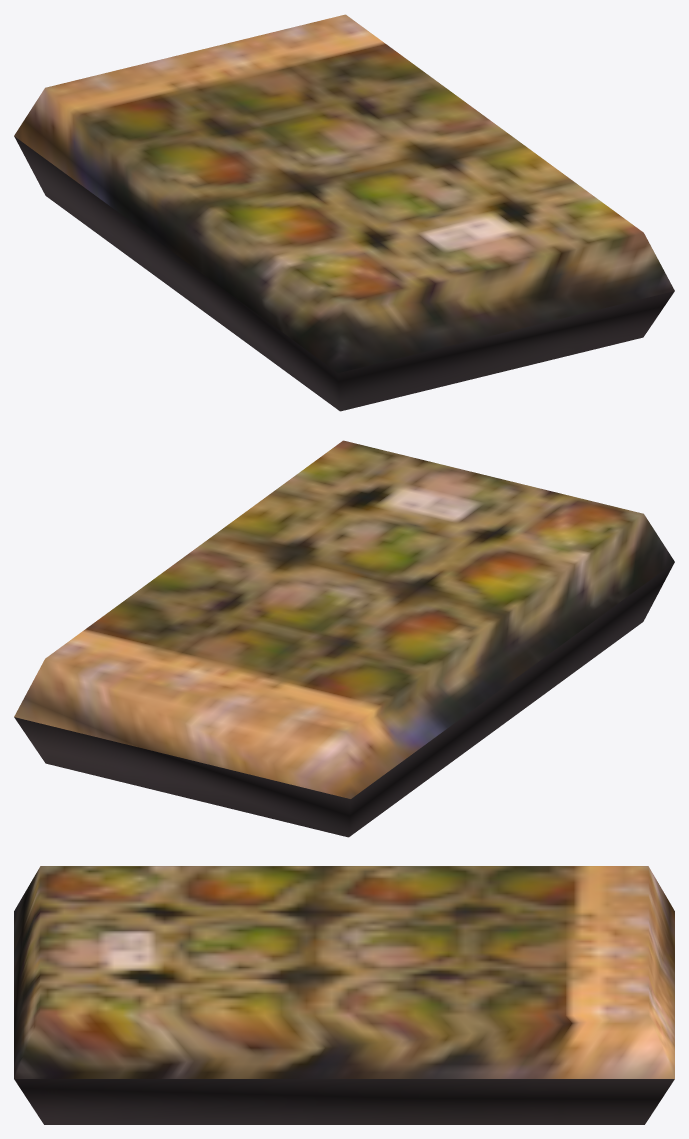
The model's file is sushi.fbx.
3 renders of one model, top to bottom at view 1: azimuth 30°, elevation 25°; view 2: azimuth 150°, elevation 25°; view 3: azimuth 270°, elevation 25°, orthographic.
Visible parts, largest first — view 1: sushi_01; view 2: sushi_01; view 3: sushi_01.
Part boxes in pixels (bbox=[...]): sushi_01: bbox=[14, 14, 674, 411]; sushi_01: bbox=[14, 440, 674, 837]; sushi_01: bbox=[14, 866, 674, 1124].
Bounding box in the file's own units: 12 × 3.62 × 20.
